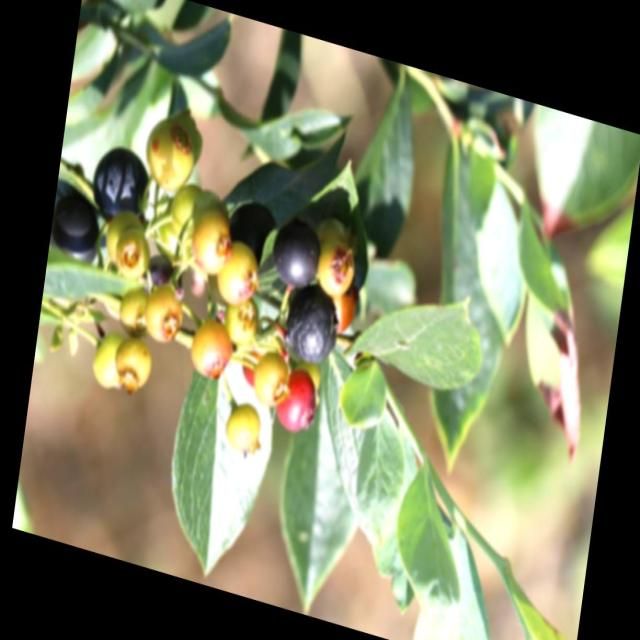blueberry: (87, 137, 156, 236), (46, 187, 104, 277), (281, 284, 342, 368), (268, 213, 324, 294), (223, 190, 282, 266), (138, 247, 188, 304)
blueberry-halfripe: (272, 358, 321, 436)
blueberry-unripe: (142, 116, 196, 199), (186, 314, 236, 382), (140, 278, 187, 350), (248, 345, 295, 416), (190, 214, 237, 278), (216, 241, 258, 309), (220, 394, 264, 458), (221, 290, 264, 353), (103, 205, 143, 270), (314, 236, 355, 297), (90, 327, 127, 394), (166, 181, 205, 243), (110, 335, 148, 397), (116, 281, 150, 343), (112, 230, 148, 282)
